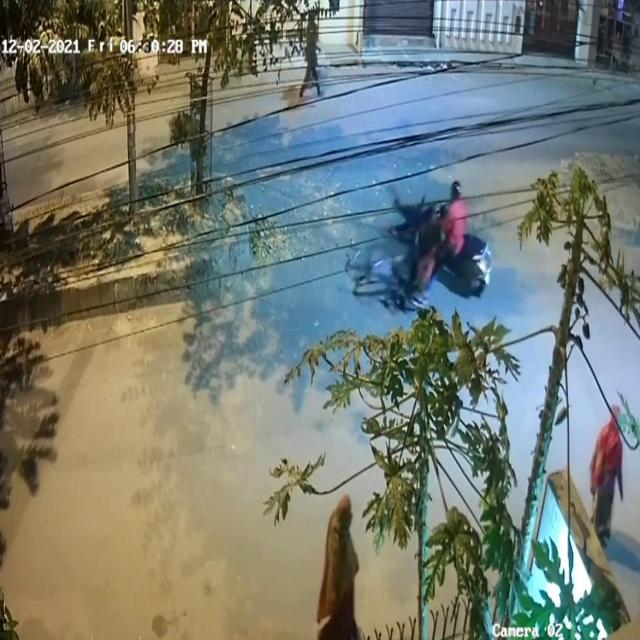accident: (344, 156, 500, 332)
